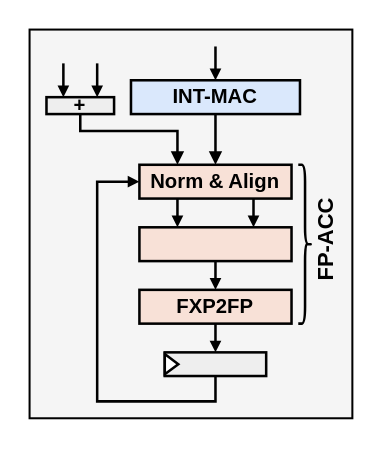
Image size: 384x450. Some labels were removed from this diagram. The shapes that lost their labels are listed below. From the top down, each one's centre as x and y in pixels, then its label:
the point at 214,243: Addition
the point at 215,363: FP-REG
